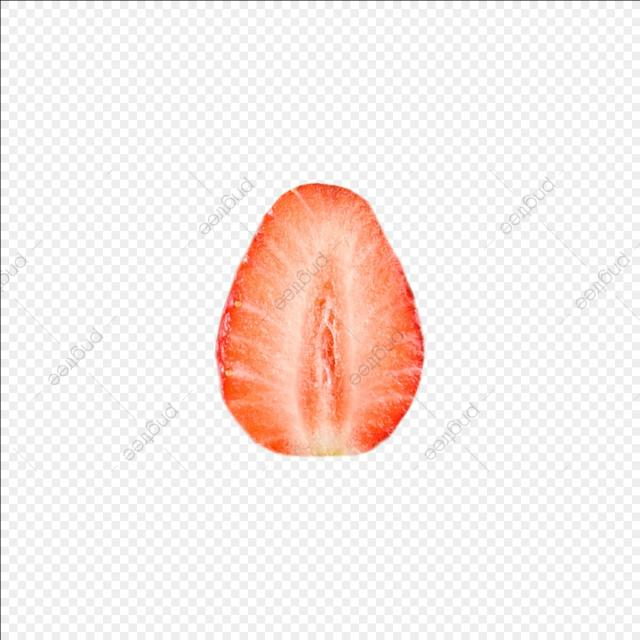strawberry: (207, 169, 445, 468)
